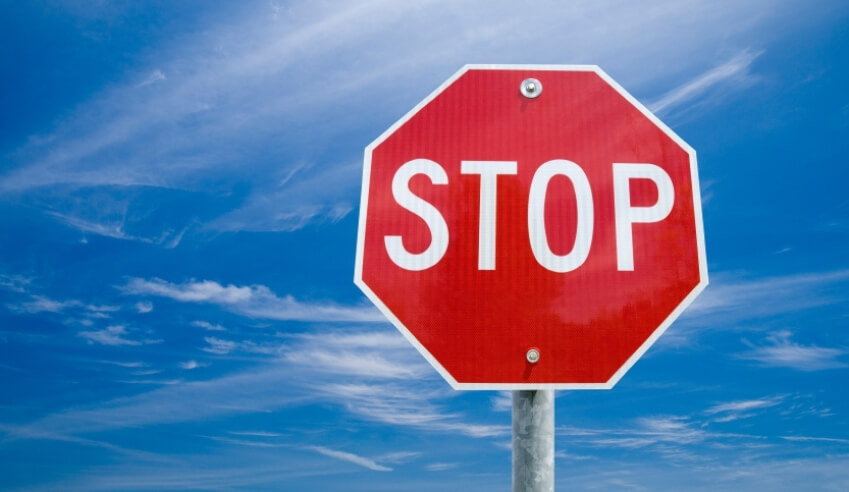stop: (348, 56, 711, 391)
